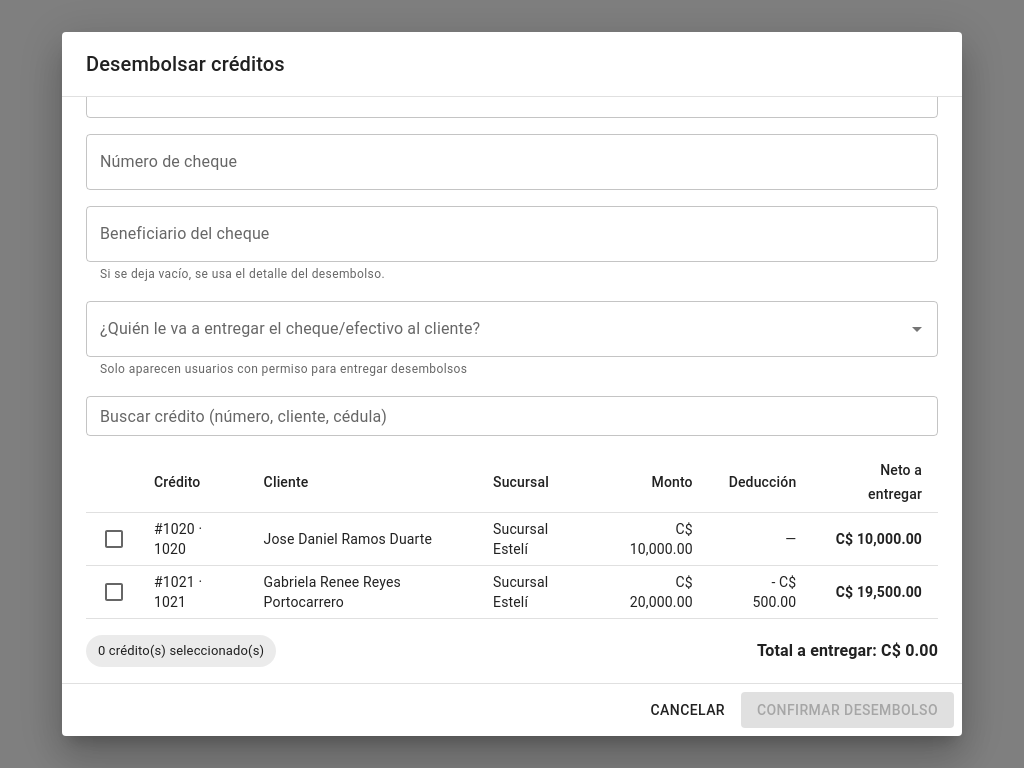
Test: Desembolso por lote con deducción › muestra la deducción y el neto, y el total es lo que se entrega
(page scrolled)
Check: the text "Gabriela Renee Reyes Portocarrero" shows "- C$ 500.00", box [752, 574, 796, 610]
Step 1. Click the text "Gabriela Renee Reyes Portocarrero" → (512, 592), box [86, 565, 938, 618]
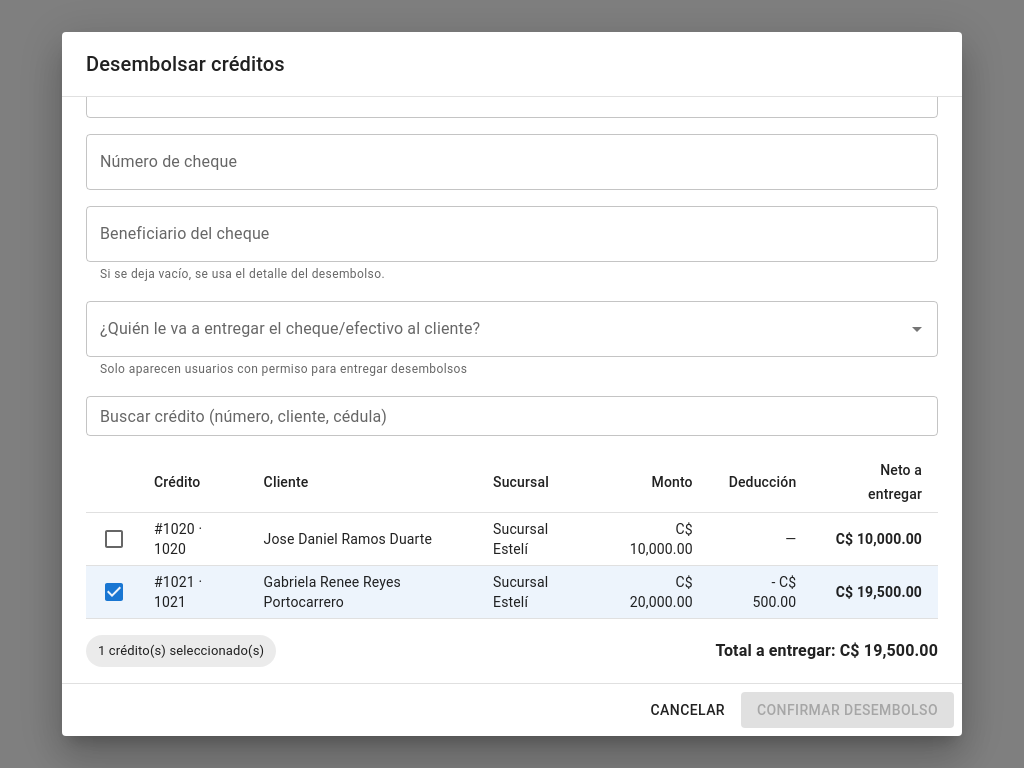
Step 2. Click the text "Jose Daniel Ramos Duarte" → (512, 539), box [86, 512, 938, 565]
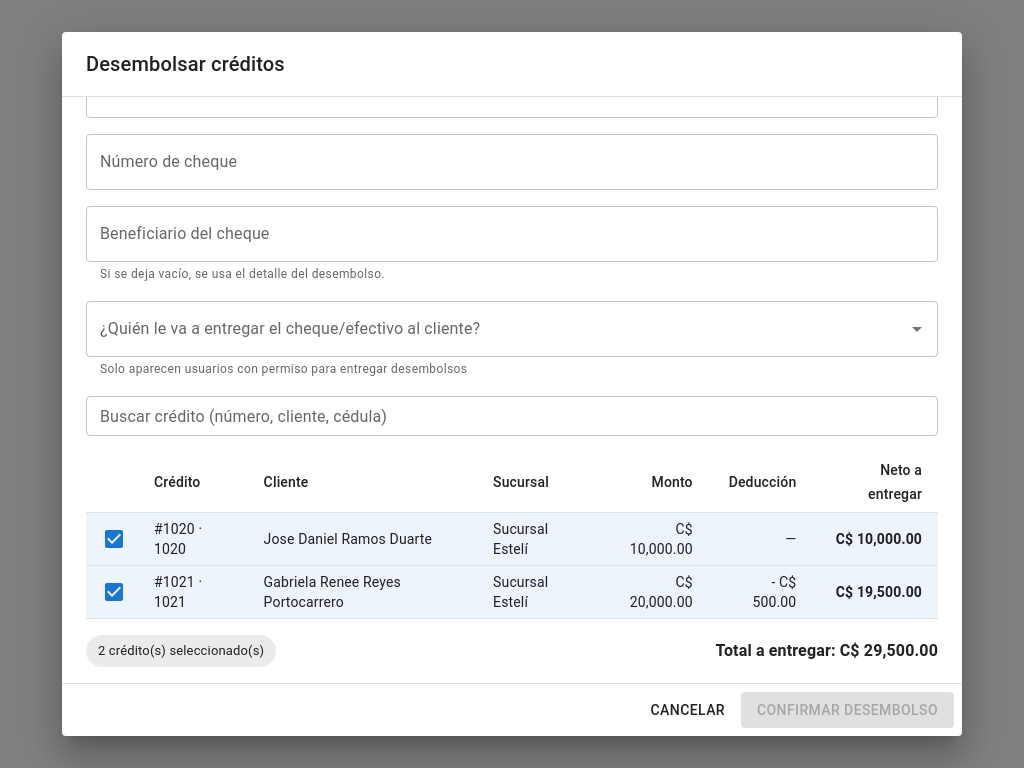
Check: the text "Total a entregar: C$ 29,500.00" is shown, box [716, 639, 938, 663]
